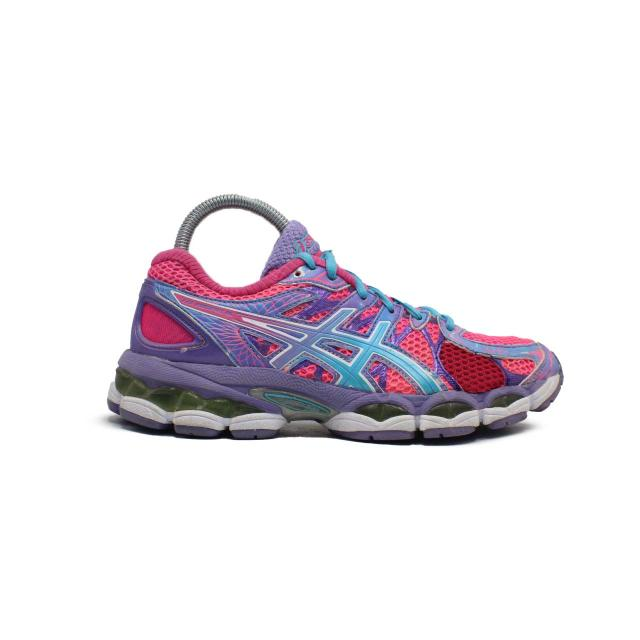heel: (130, 256, 188, 356)
midsole: (106, 346, 569, 435)
uppersole: (162, 219, 545, 396)
